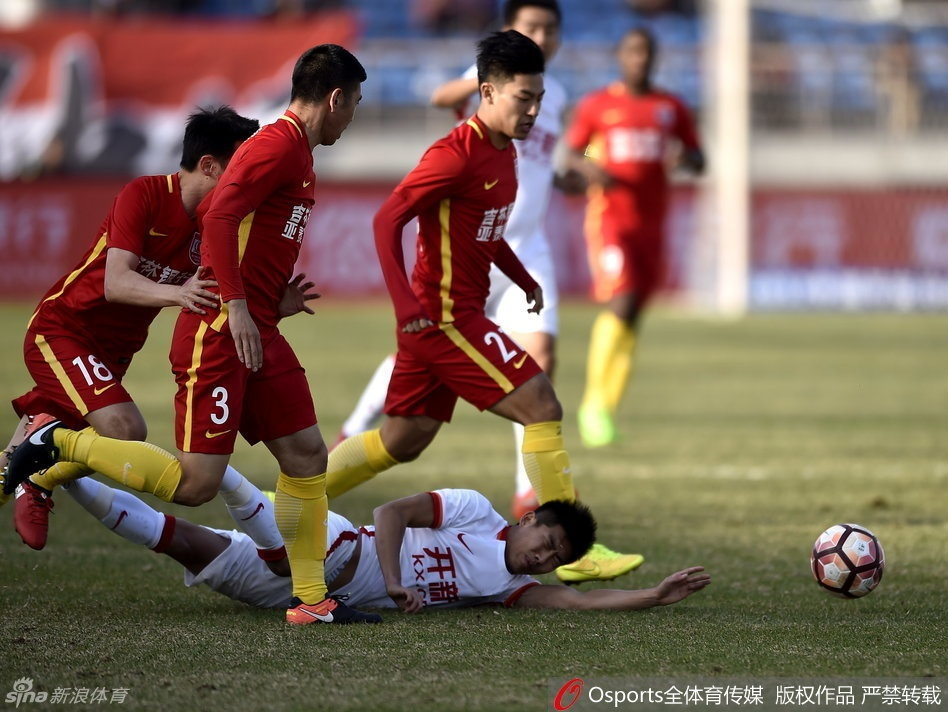falling: (30, 458, 717, 626)
